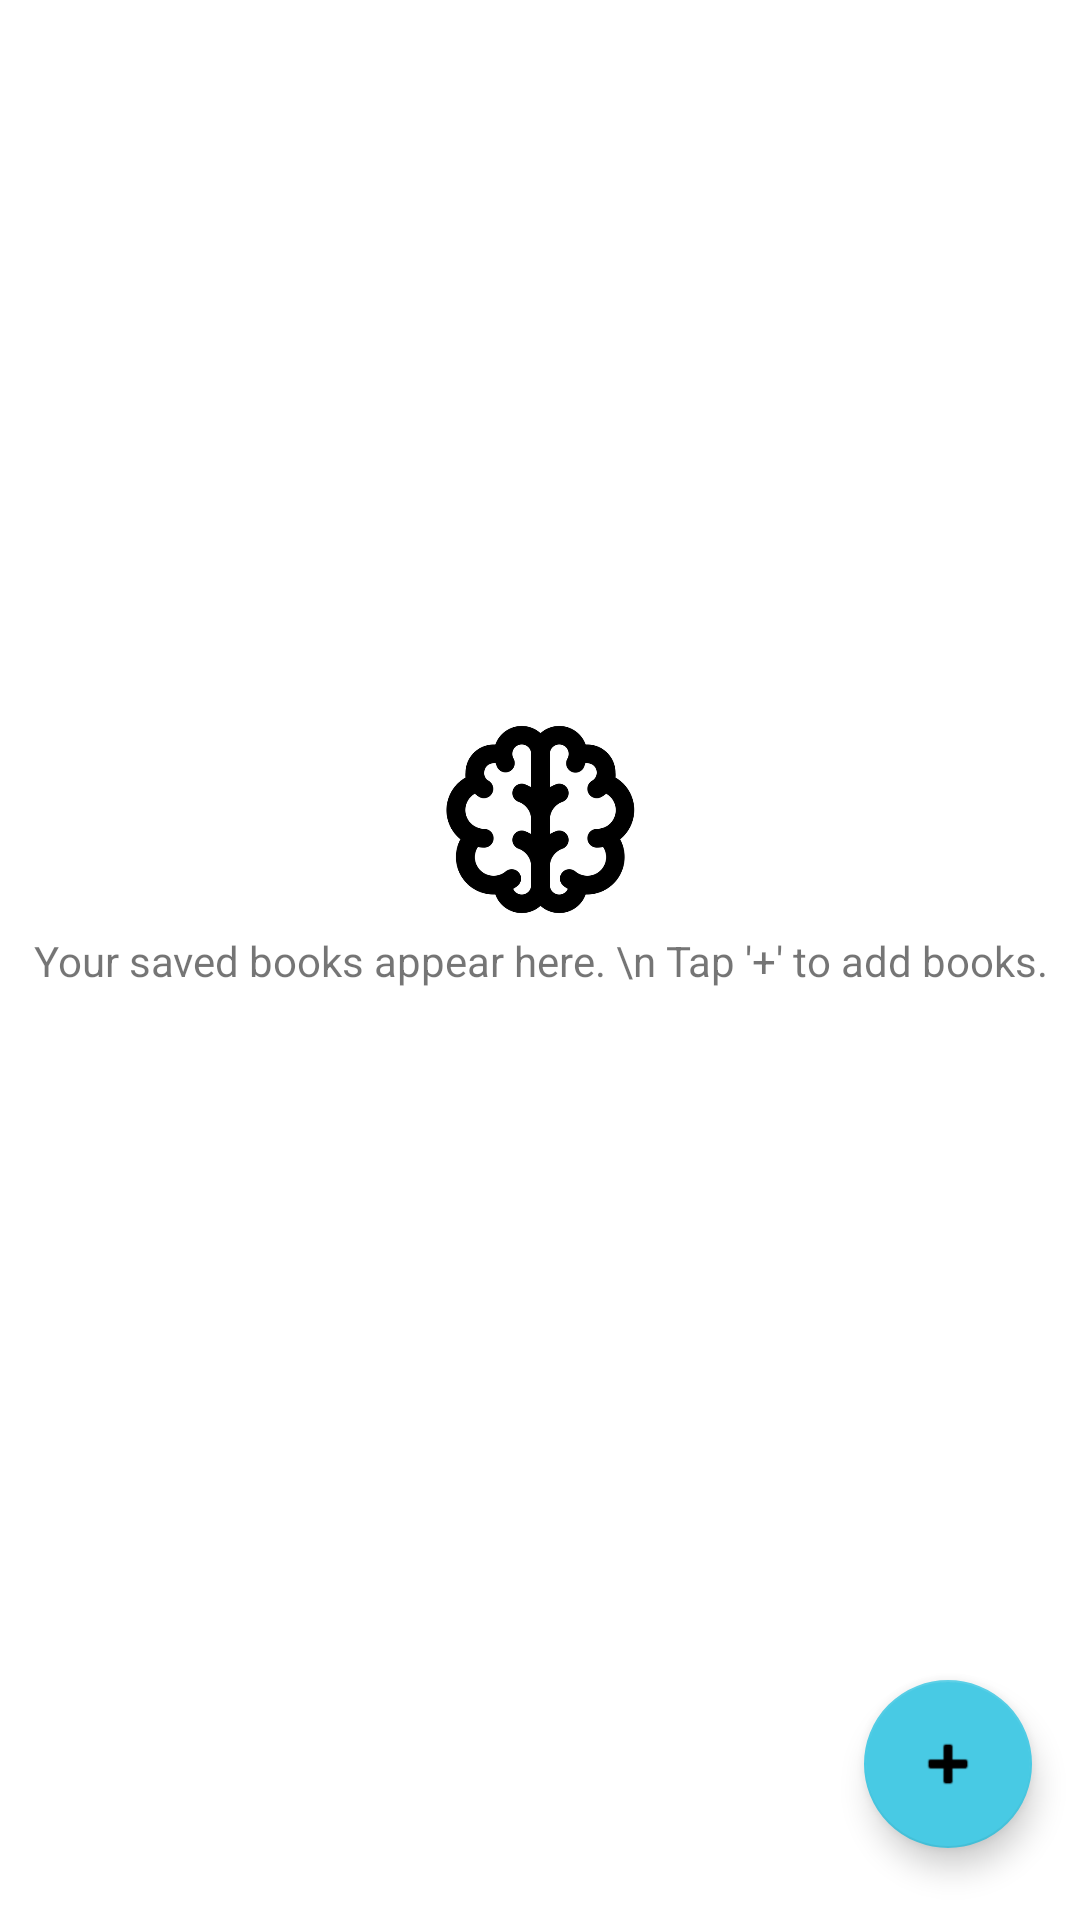

Named icons in this screenshot (1080 × 1920) and their centers, point (x, y):
add: point (948, 1764)
brain: point (540, 819)
